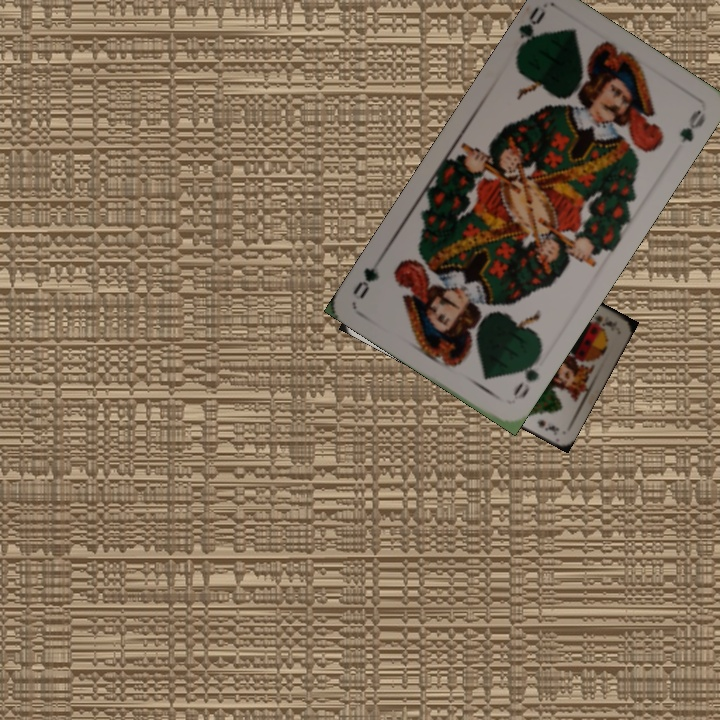GO: (512, 2, 548, 59), (508, 350, 543, 403)
SK: (589, 311, 615, 328)
